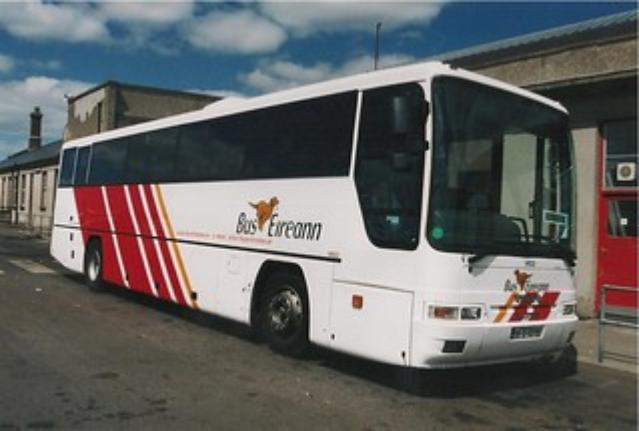bus: (46, 58, 580, 371)
